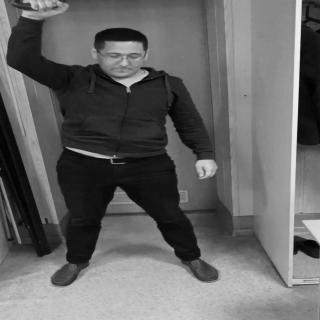kettlebell: (9, 1, 72, 12)
